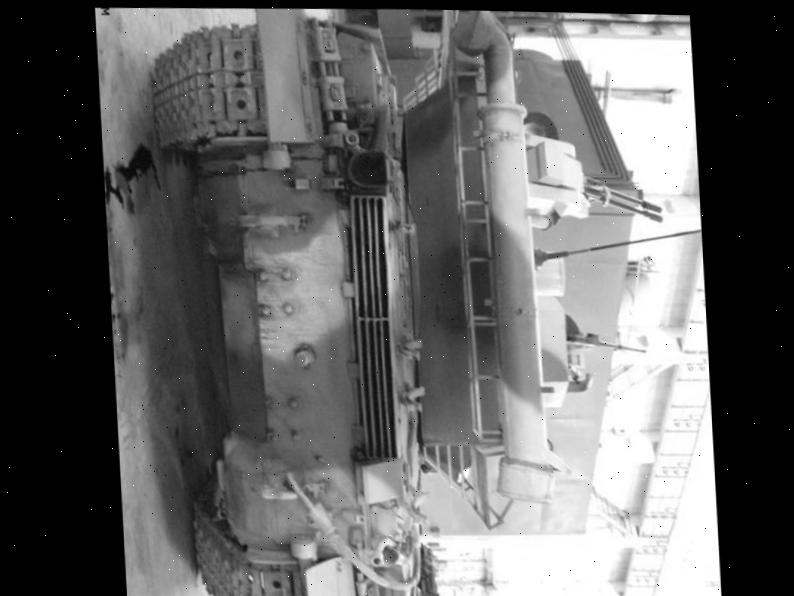tank: (147, 3, 684, 596)
